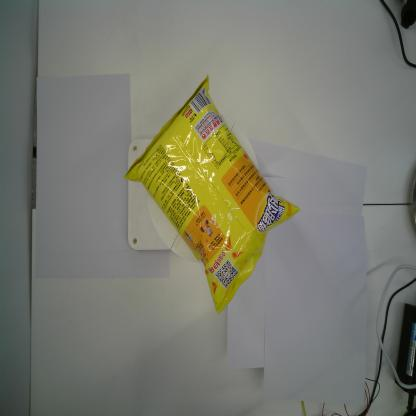Puffed Food: (122, 74, 302, 316)
